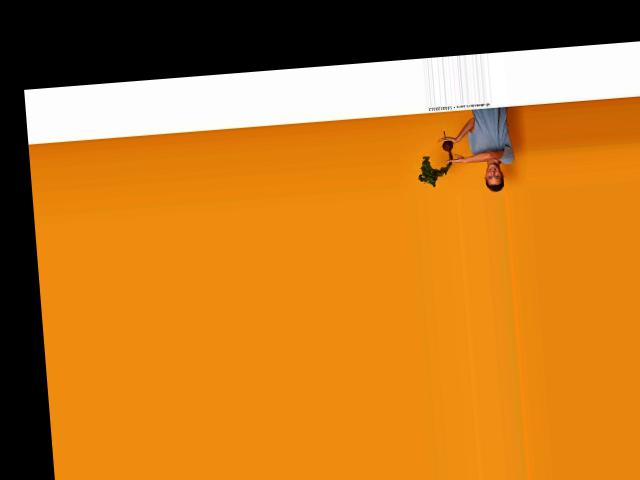beet: (414, 130, 455, 187)
